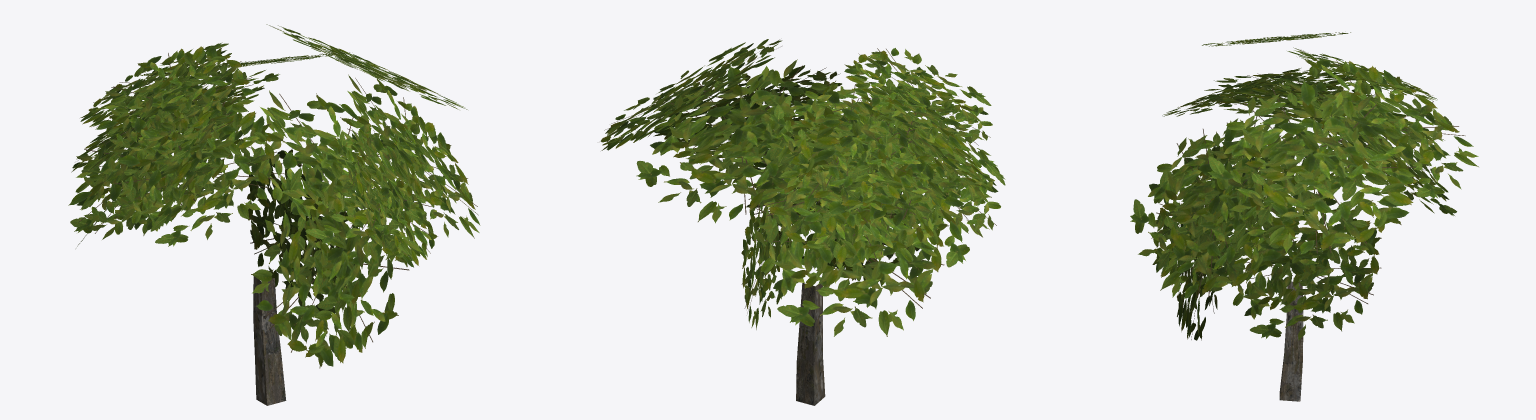
Rendered from tree_c_far.glb.
3 renders of one model, left to right at view 1: azimuth 30°, elevation 25°; view 2: azimuth 150°, elevation 25°; view 3: azimuth 270°, elevation 25°, orthographic. The views are drawn at different scales.
Visible parts, largest first — view 1: tree_c_far; view 2: tree_c_far; view 3: tree_c_far.
Boxes of the visible parts, x1,y1,x2,y2 form: tree_c_far: (68, 24, 480, 405); tree_c_far: (600, 39, 1005, 405); tree_c_far: (1130, 32, 1478, 401).
Size of the model in its own units: 8.34 by 6.53 by 7.26.
2 materials, 2 textured.
